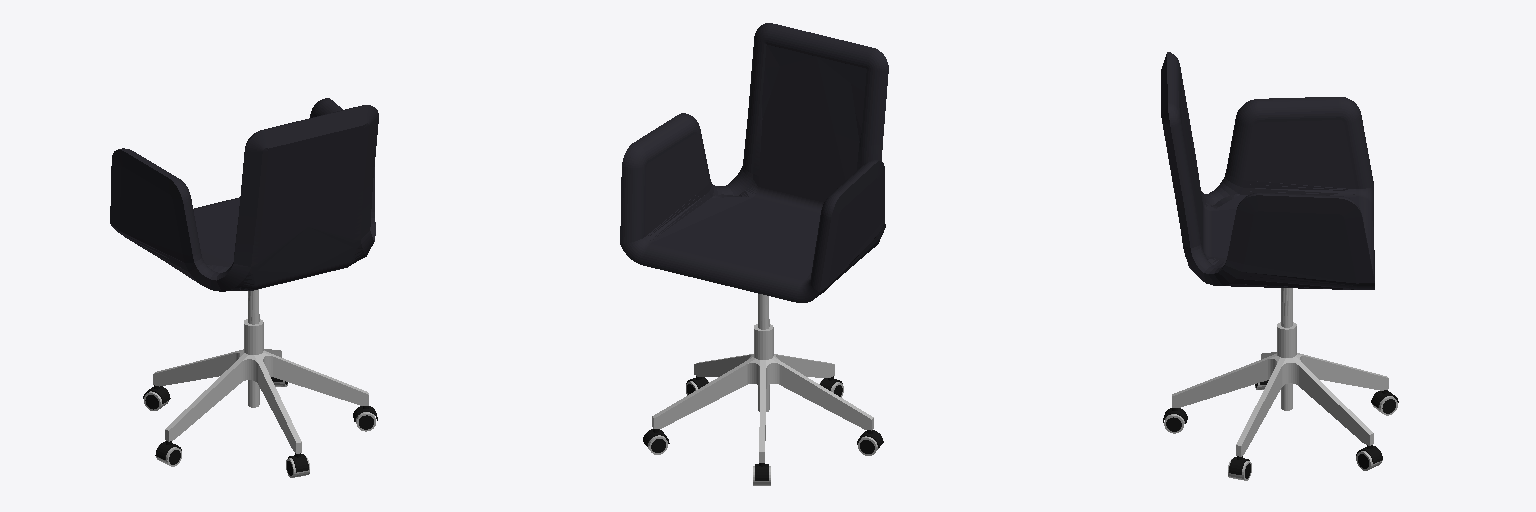
The picture shows the model from 3 angles: view 1: azimuth 30°, elevation 25°; view 2: azimuth 150°, elevation 25°; view 3: azimuth 270°, elevation 25°; orthographic projection.
Parts seen in each view (by area): view 1: Mesh22 Group19 Patrik_kontorsstol1 Model, Mesh17 Patrik_ben4 Group3 Group1 Patrik_kontorsstol1 Model, Mesh13 Patrik_ben3 Group3 Group1 Patrik_kontorsstol1 Model, Mesh9 Patrik_ben2 Group3 Group1 Patrik_kontorsstol1 Model, Mesh5 Patrik_ben1 Group3 Group1 Patrik_kontorsstol1 Model, Mesh1 Group2 Group1 Patrik_kontorsstol1 Model; view 2: Mesh22 Group19 Patrik_kontorsstol1 Model, Mesh13 Patrik_ben3 Group3 Group1 Patrik_kontorsstol1 Model, Mesh21 Patrik_ben5 Group3 Group1 Patrik_kontorsstol1 Model, Mesh1 Group2 Group1 Patrik_kontorsstol1 Model, Mesh5 Patrik_ben1 Group3 Group1 Patrik_kontorsstol1 Model, Mesh9 Patrik_ben2 Group3 Group1 Patrik_kontorsstol1 Model, Mesh17 Patrik_ben4 Group3 Group1 Patrik_kontorsstol1 Model; view 3: Mesh22 Group19 Patrik_kontorsstol1 Model, Mesh21 Patrik_ben5 Group3 Group1 Patrik_kontorsstol1 Model, Mesh9 Patrik_ben2 Group3 Group1 Patrik_kontorsstol1 Model, Mesh5 Patrik_ben1 Group3 Group1 Patrik_kontorsstol1 Model, Mesh17 Patrik_ben4 Group3 Group1 Patrik_kontorsstol1 Model, Mesh1 Group2 Group1 Patrik_kontorsstol1 Model.
Part boxes in pixels (x1,y1,x2,y2): Mesh22 Group19 Patrik_kontorsstol1 Model: (110, 98, 378, 291); Mesh17 Patrik_ben4 Group3 Group1 Patrik_kontorsstol1 Model: (260, 351, 368, 405); Mesh13 Patrik_ben3 Group3 Group1 Patrik_kontorsstol1 Model: (165, 351, 247, 441); Mesh9 Patrik_ben2 Group3 Group1 Patrik_kontorsstol1 Model: (240, 354, 301, 453); Mesh5 Patrik_ben1 Group3 Group1 Patrik_kontorsstol1 Model: (153, 349, 243, 386); Mesh1 Group2 Group1 Patrik_kontorsstol1 Model: (244, 289, 263, 407); Mesh22 Group19 Patrik_kontorsstol1 Model: (620, 23, 888, 302); Mesh13 Patrik_ben3 Group3 Group1 Patrik_kontorsstol1 Model: (766, 357, 873, 430); Mesh21 Patrik_ben5 Group3 Group1 Patrik_kontorsstol1 Model: (652, 354, 755, 428); Mesh1 Group2 Group1 Patrik_kontorsstol1 Model: (754, 294, 773, 411); Mesh5 Patrik_ben1 Group3 Group1 Patrik_kontorsstol1 Model: (745, 359, 765, 462); Mesh9 Patrik_ben2 Group3 Group1 Patrik_kontorsstol1 Model: (773, 354, 834, 377); Mesh17 Patrik_ben4 Group3 Group1 Patrik_kontorsstol1 Model: (694, 354, 752, 376); Mesh22 Group19 Patrik_kontorsstol1 Model: (1161, 52, 1374, 289); Mesh21 Patrik_ben5 Group3 Group1 Patrik_kontorsstol1 Model: (1281, 356, 1373, 445); Mesh9 Patrik_ben2 Group3 Group1 Patrik_kontorsstol1 Model: (1172, 353, 1276, 407); Mesh5 Patrik_ben1 Group3 Group1 Patrik_kontorsstol1 Model: (1296, 353, 1388, 390); Mesh17 Patrik_ben4 Group3 Group1 Patrik_kontorsstol1 Model: (1236, 356, 1285, 456); Mesh1 Group2 Group1 Patrik_kontorsstol1 Model: (1277, 288, 1296, 410).
Bounding box in the file's own units: 0.5591 × 0.9031 × 0.5434.